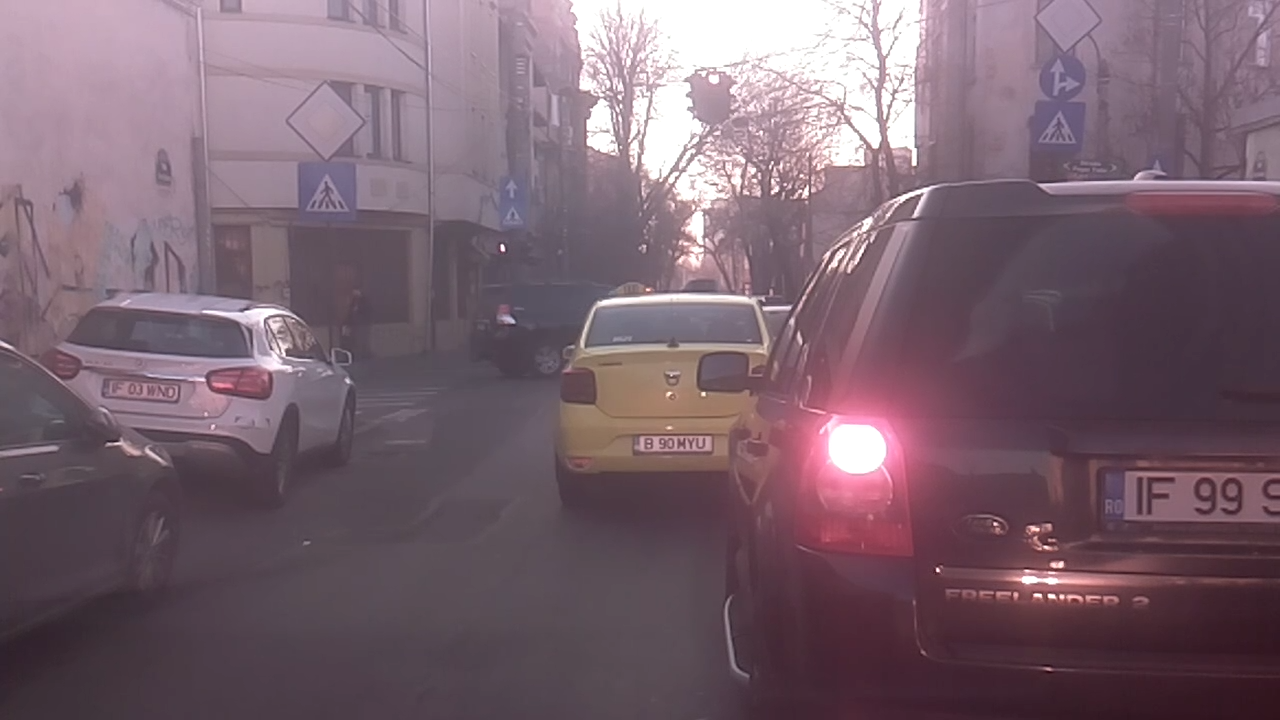license-plate: (98, 374, 184, 404), (630, 430, 717, 457)
